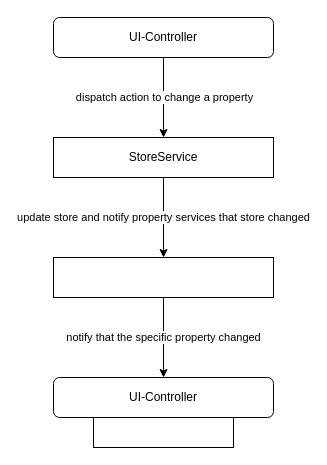
Image size: 327x465. Some labels were removed from this diagram. The shapes that lost their labels are listed below. From the top down, each one's centre as x and y in pixels, then its label:
[163,277]: PropertyService
[163,432]: Update the viewModel
